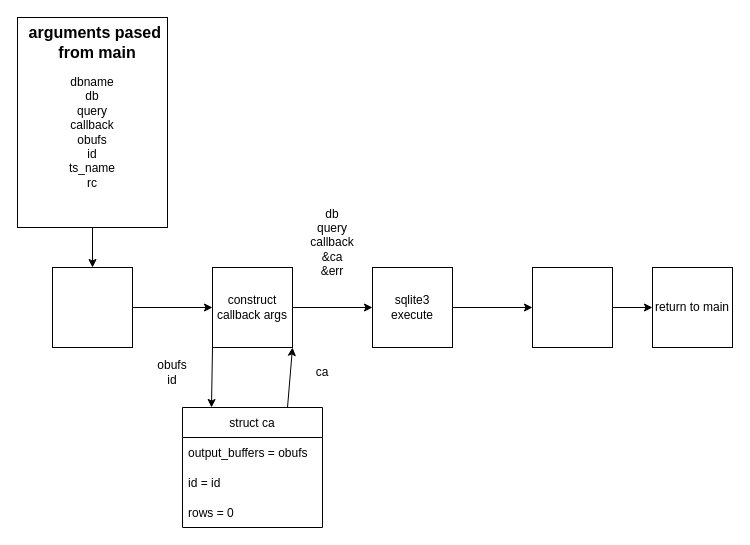
Some shapes in this 750 by 545 pixel diagram are drawn without their labels. The shapes that lost their labels are listed below. From the top down, each one's centre as x and y in pixels, then its label:
At point (92, 307): "querydb".
At point (572, 307): "rc = ca.rows".
